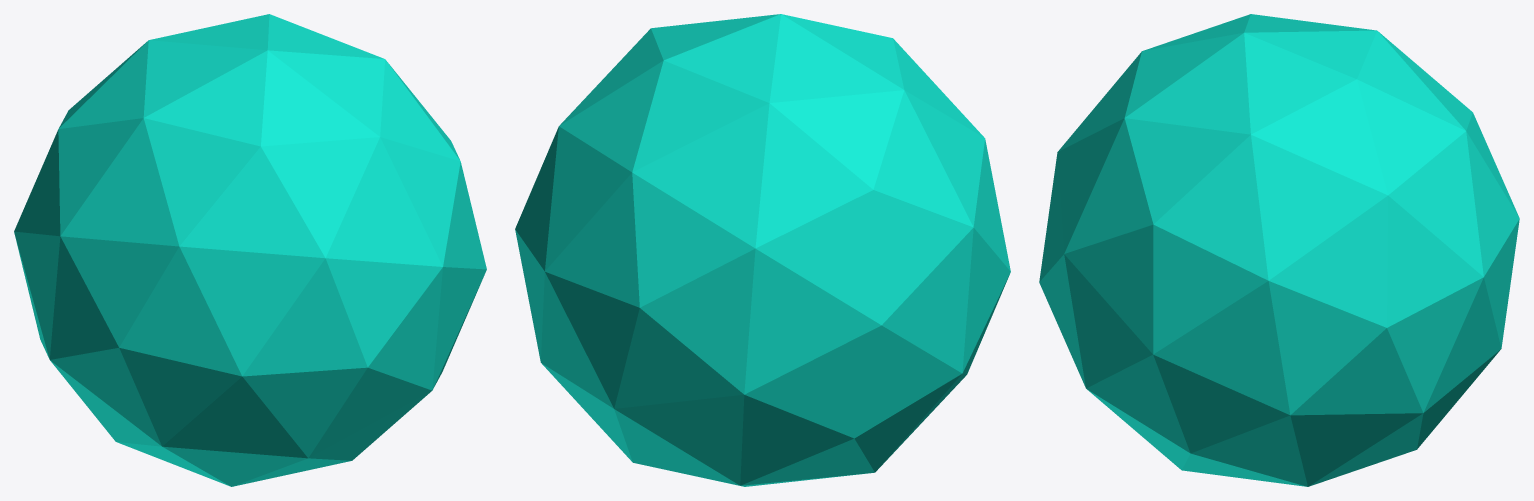
The model's file is Gate1_tail_end.fbx.
3 views of the same model, side by side, from view 1: azimuth 30°, elevation 25°; view 2: azimuth 150°, elevation 25°; view 3: azimuth 270°, elevation 25° (orthographic). The views are drawn at different scales.
Visible parts, largest first — view 1: Tail.001; view 2: Tail.001; view 3: Tail.001.
Boxes of the visible parts, box(x1,y1,x2,y2) form: Tail.001: box(14, 14, 486, 486); Tail.001: box(515, 14, 1010, 486); Tail.001: box(1039, 14, 1519, 486).
Size of the model in its own units: 0.9834 by 1.02 by 1.02.
